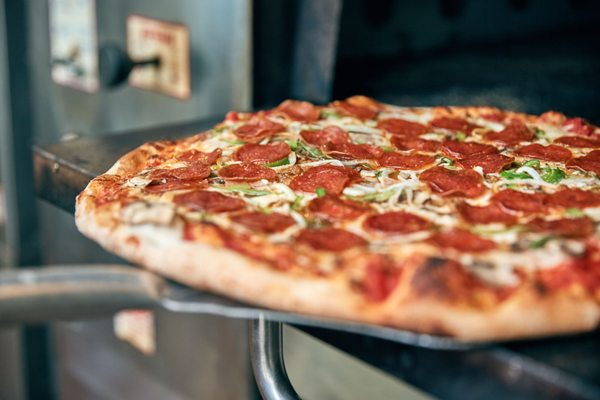sandwich: (76, 94, 600, 343)
